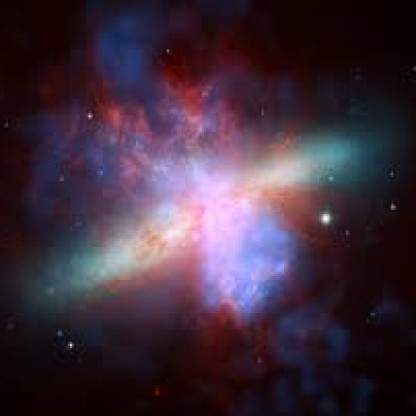Messier 82: (10, 16, 398, 407)
